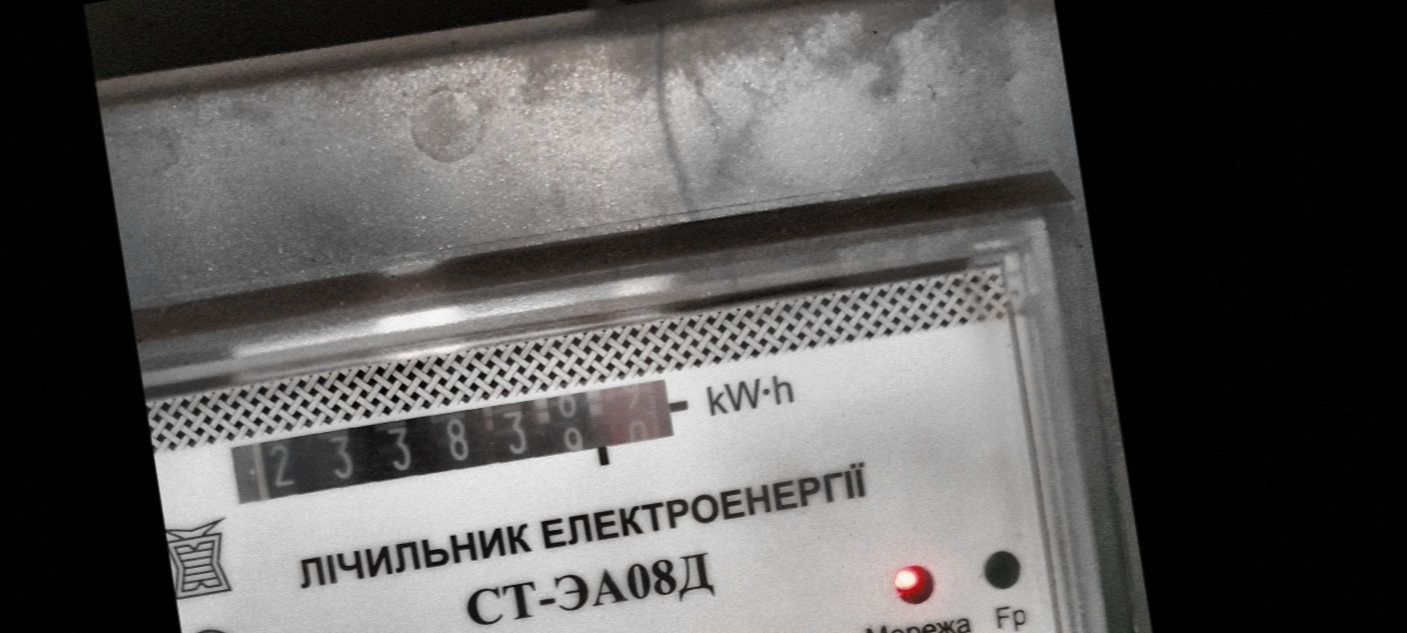0: (624, 414, 650, 443)
2: (265, 439, 296, 489)
3: (322, 428, 358, 481), (380, 421, 416, 473), (498, 406, 529, 455)
8: (439, 413, 473, 463), (553, 390, 579, 420)
9: (618, 378, 644, 411), (559, 421, 584, 453)
screen: (216, 364, 697, 525)
